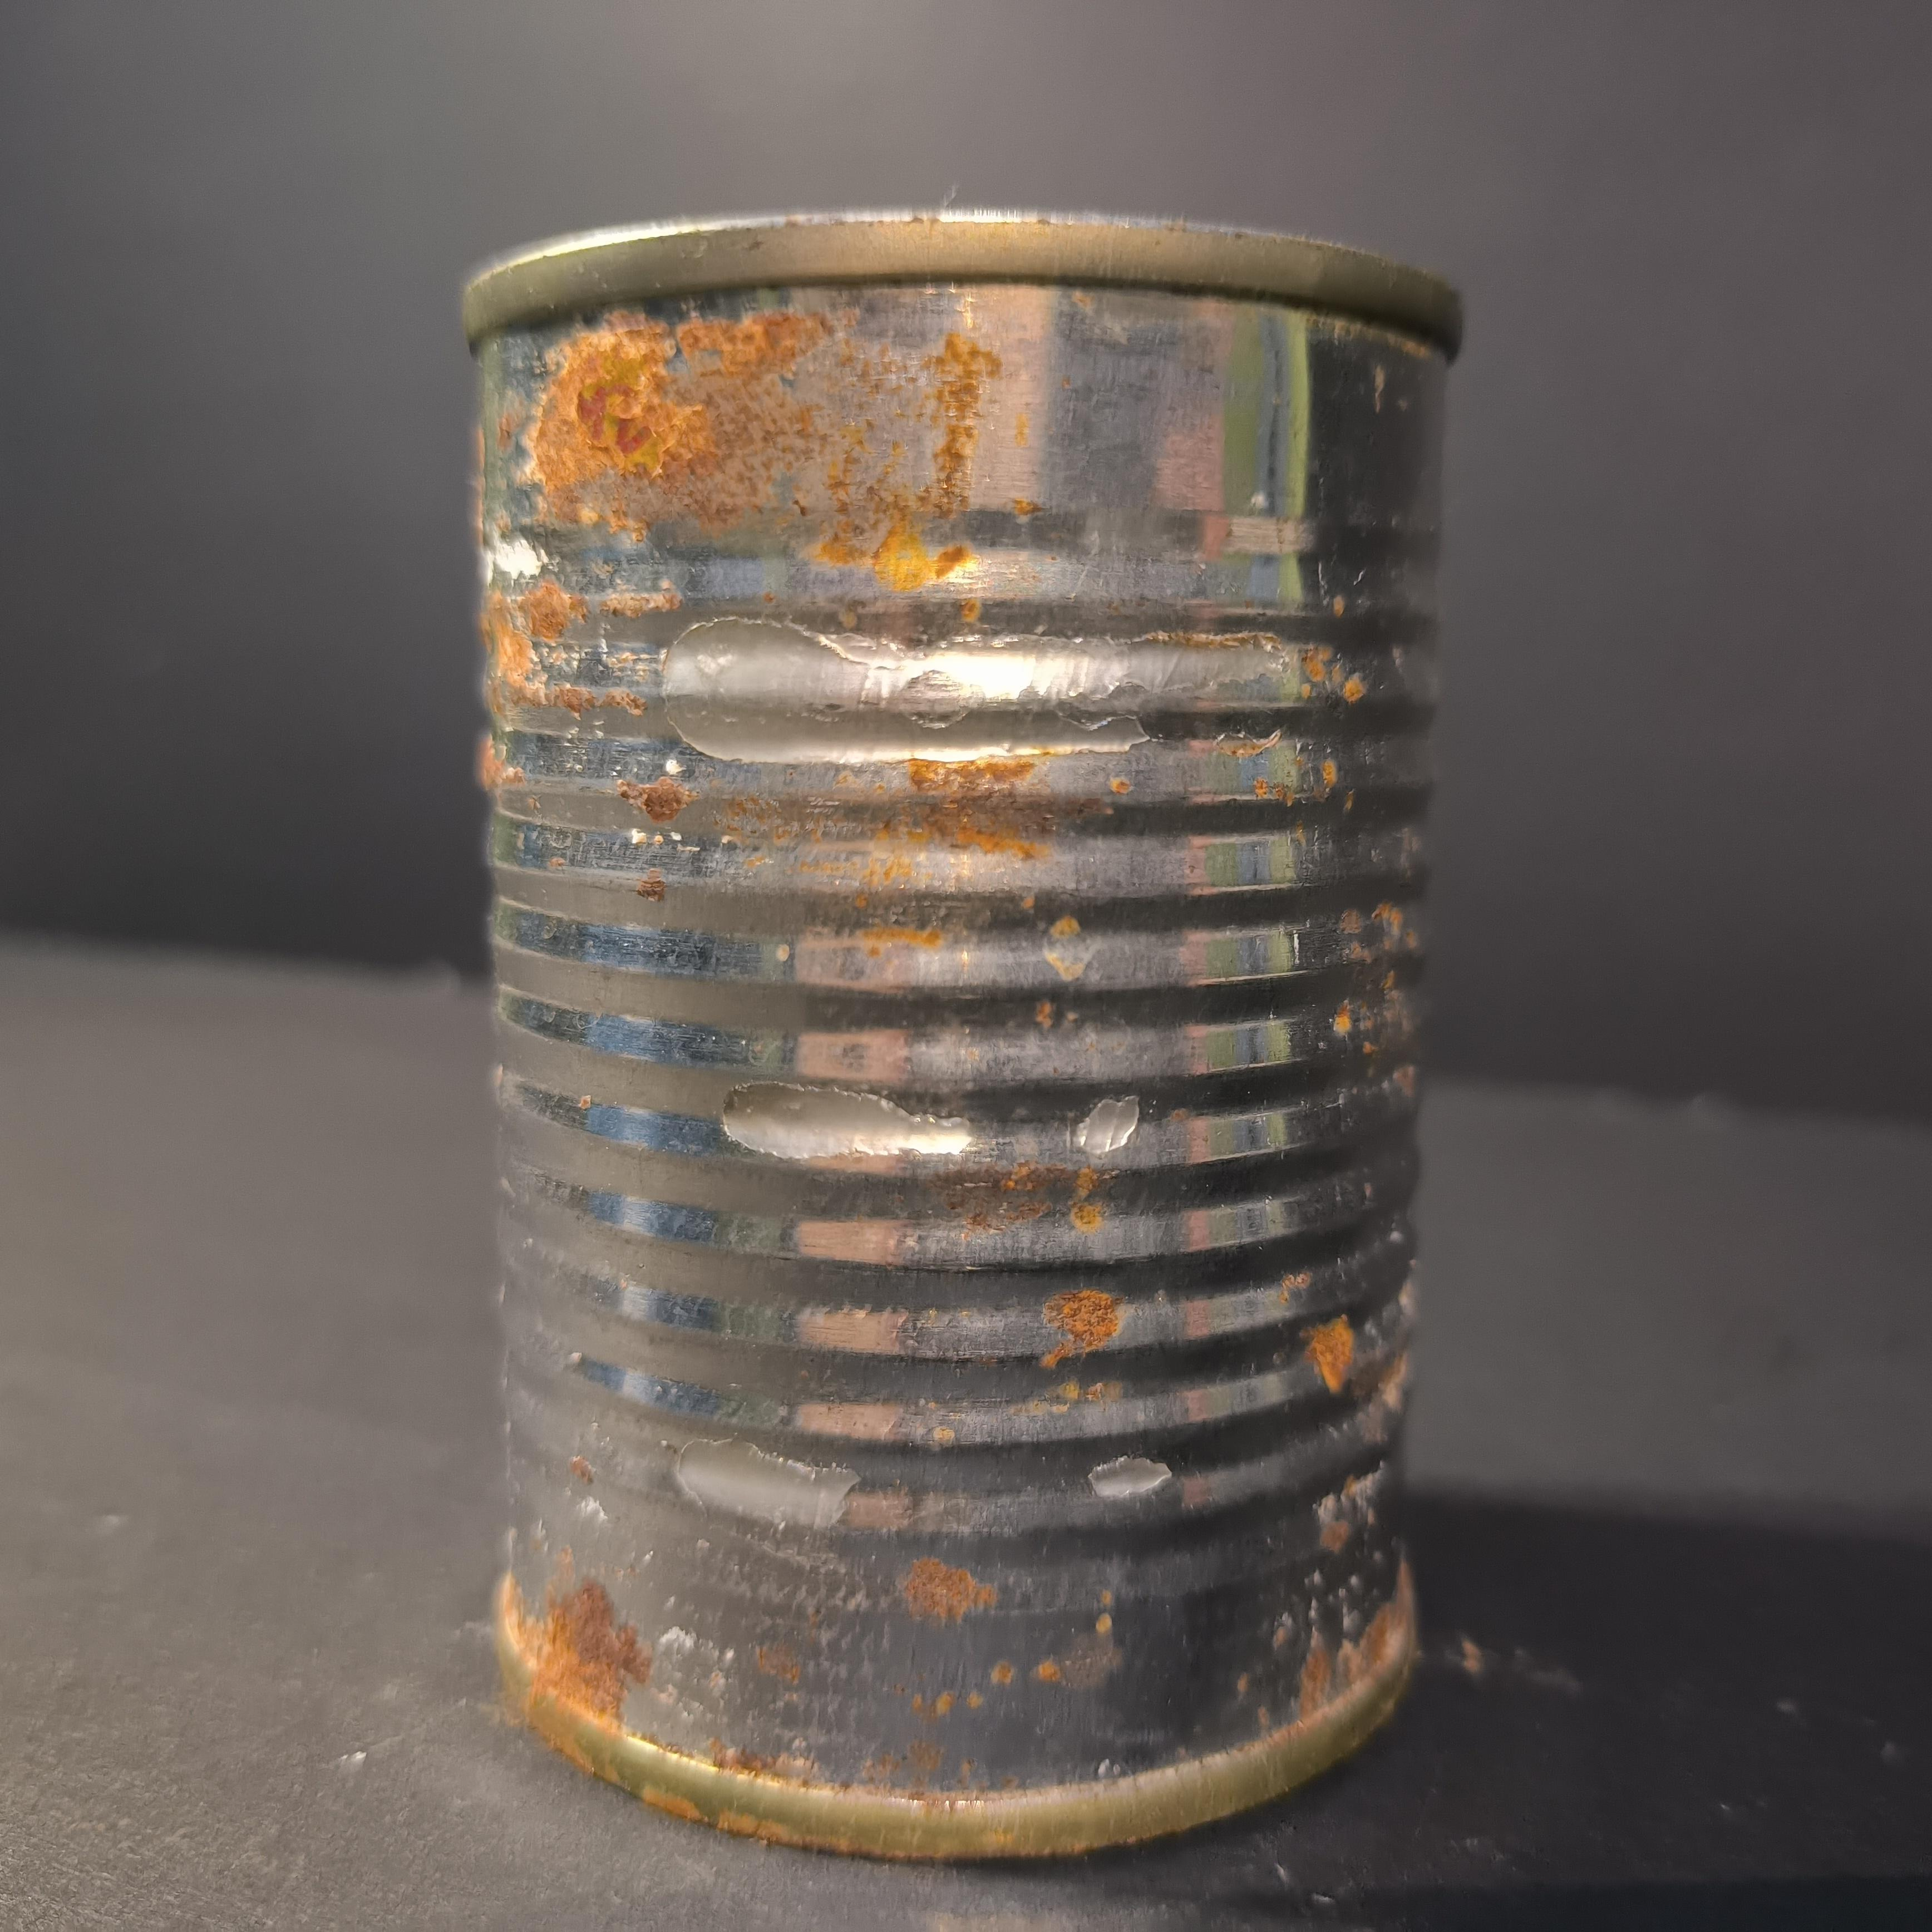Rusted: (433, 189, 1467, 1881)
